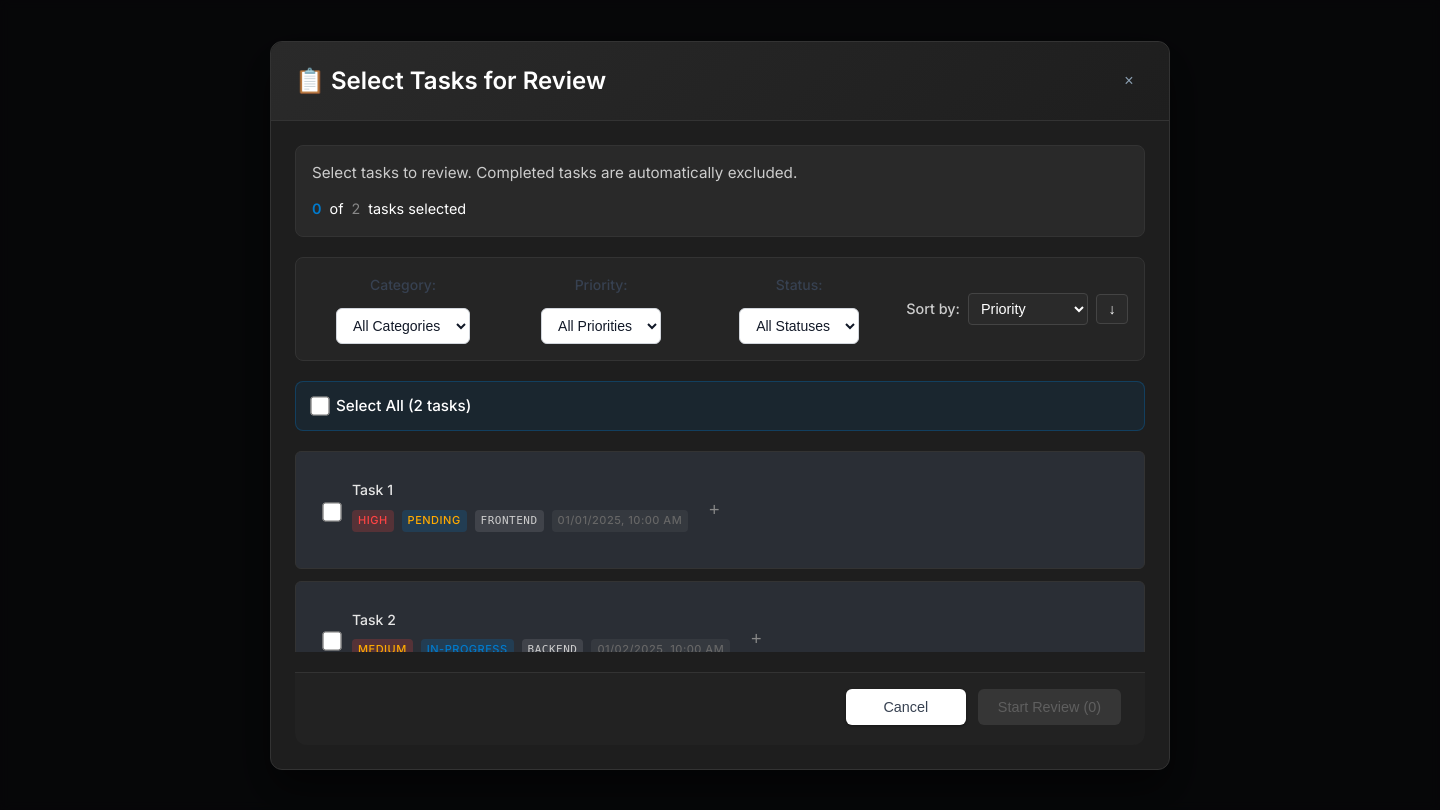
TaskReviewSelectionModal › Task Filtering › filters tasks by priority
This screenshot has width=1440, height=810.
Select "high" in the dropdown showing "All Priorities" below "Priority:" at (601, 326), box [541, 308, 661, 344]
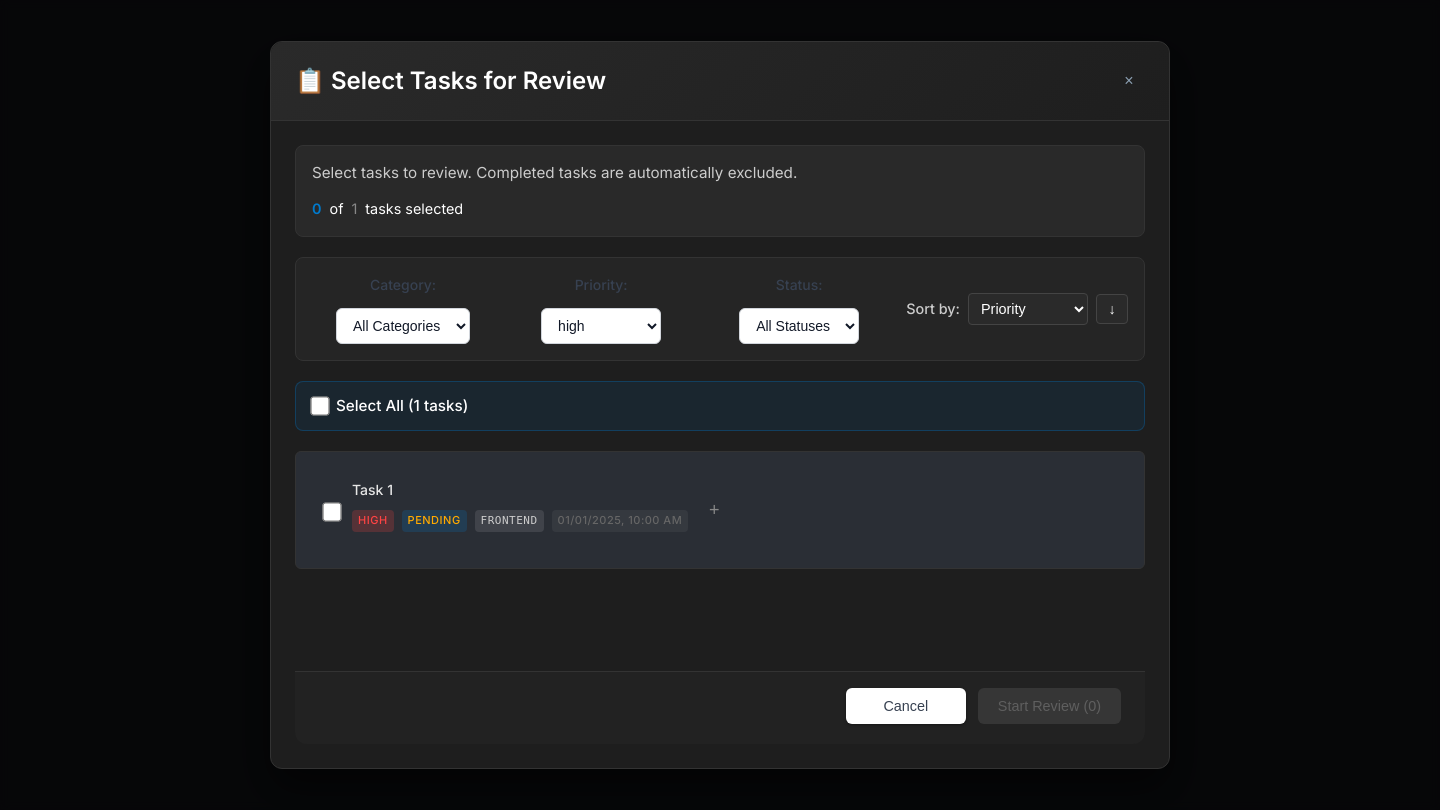
Expected: the text "Task 1" is shown, [352, 482, 393, 498]
Expected: the text "Task 2" is gone
